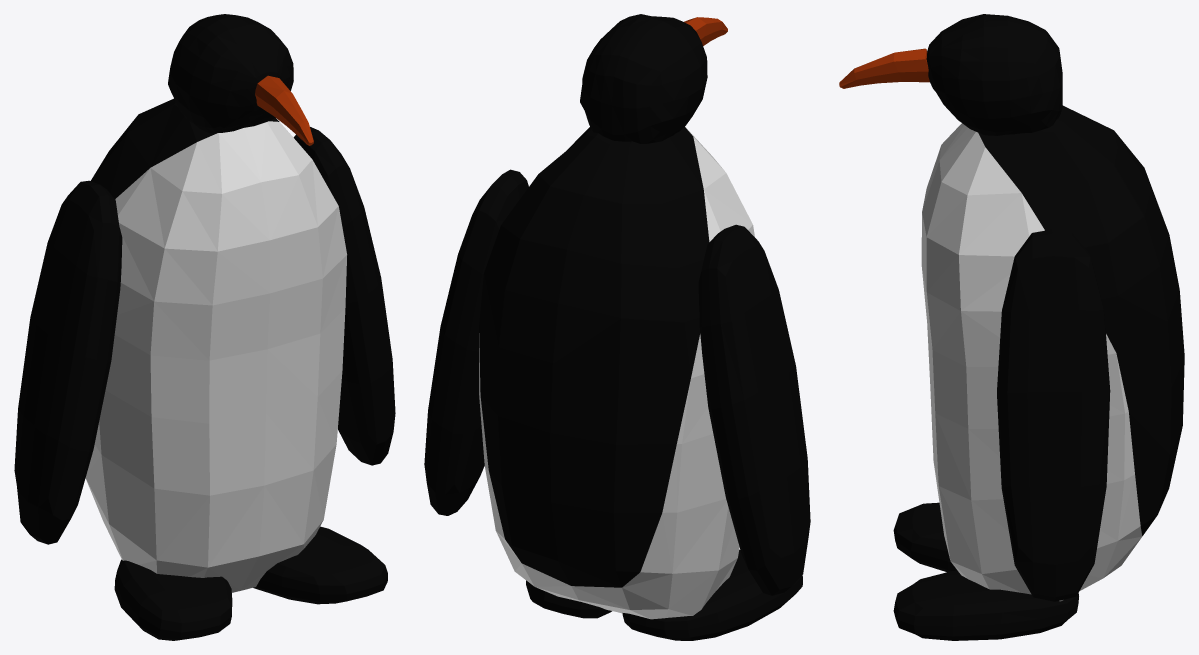
The model's file is penguin.dae.
3 views of the same model, side by side, from view 1: azimuth 30°, elevation 25°; view 2: azimuth 150°, elevation 25°; view 3: azimuth 270°, elevation 25° (orthographic).
Parts seen in each view (by area): view 1: Penguin; view 2: Penguin; view 3: Penguin.
Boxes of the visible parts, x1,y1,x2,y2 form: Penguin: (14,14,395,640); Penguin: (424,14,810,640); Penguin: (839,14,1184,640).
Size of the model in its own units: 2.99 by 2.54 by 4.66.
